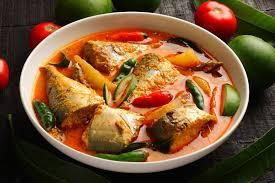Fish Curry: (32, 22, 235, 161)
